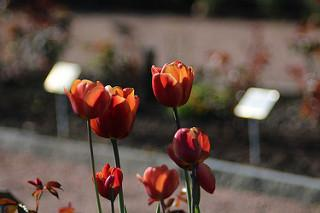tulip: (91, 85, 139, 139), (151, 60, 194, 104), (64, 79, 109, 119), (138, 165, 180, 201), (92, 163, 124, 198)
